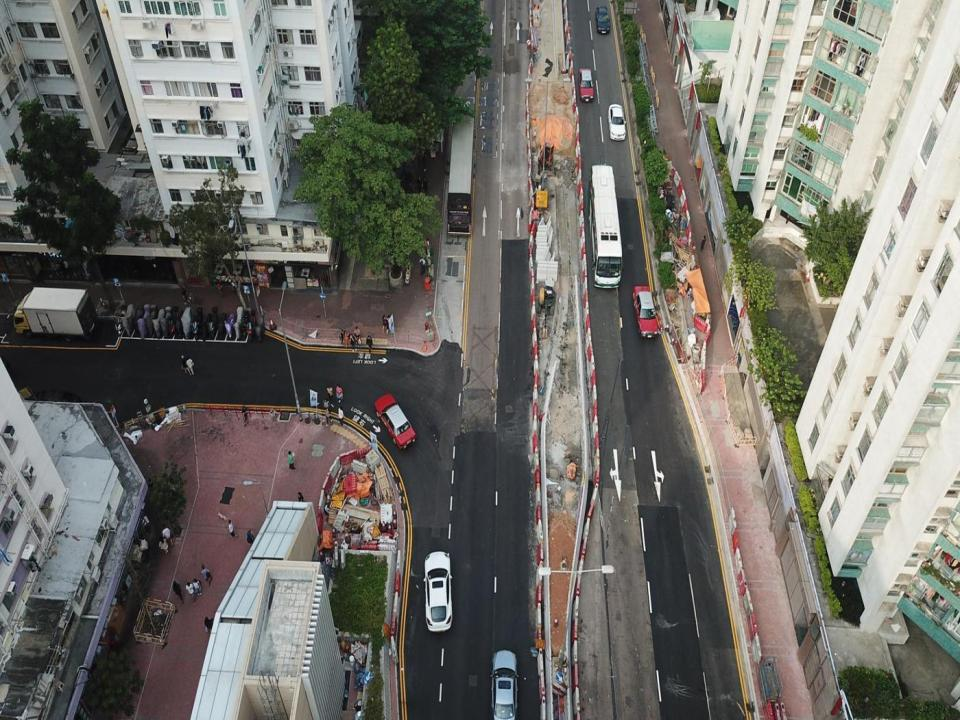bus: (586, 164, 624, 288), (448, 112, 474, 238)
car: (422, 553, 454, 633), (373, 392, 415, 448), (490, 650, 517, 719), (633, 284, 660, 338), (608, 102, 626, 142), (578, 68, 596, 102), (596, 4, 609, 34)
